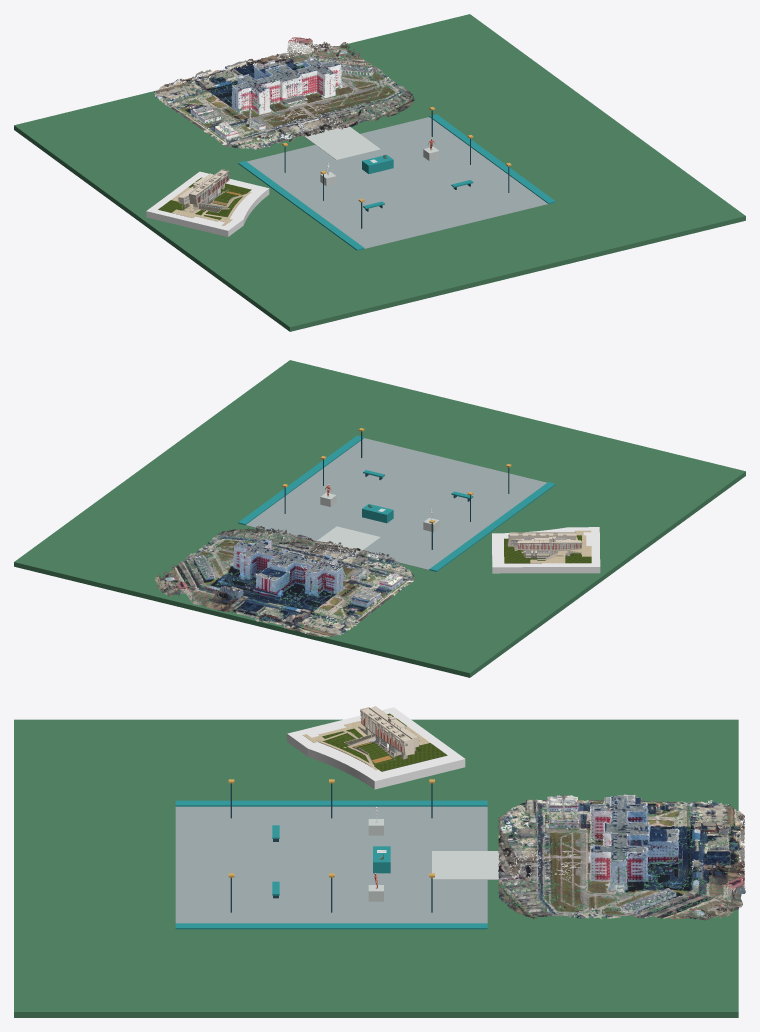
The model's file is ENV_PREP_Campus_v2.glb.
3 renders of one model, top to bottom at view 1: azimuth 30°, elevation 25°; view 2: azimuth 150°, elevation 25°; view 3: azimuth 270°, elevation 25°, orthographic. The views are drawn at different scales.
Parts seen in each view (by area): view 1: Terreno, Patio, SUP_hospital_02.001, SUP_facultad_de_enfermeria_unal_colombia.001, Caminho_Hospital, Faixa_Jardim, Faixa_Jardim.001; view 2: Terreno, Patio, SUP_hospital_02.001, SUP_facultad_de_enfermeria_unal_colombia.001, Caminho_Hospital, Faixa_Jardim, Faixa_Jardim.001; view 3: Terreno, Patio, SUP_hospital_02.001, SUP_facultad_de_enfermeria_unal_colombia.001, Caminho_Hospital, Faixa_Jardim.001, Faixa_Jardim.
Part boxes in pixels (box(x1,y1,x2,y2)): Terreno: box(14, 14, 745, 331); Patio: box(247, 117, 547, 248); SUP_hospital_02.001: box(154, 37, 414, 149); SUP_facultad_de_enfermeria_unal_colombia.001: box(146, 169, 269, 236); Caminho_Hospital: box(281, 107, 380, 159); Faixa_Jardim: box(238, 161, 364, 250); Faixa_Jardim.001: box(429, 114, 555, 203); Terreno: box(14, 360, 745, 677); Patio: box(246, 438, 546, 569); SUP_hospital_02.001: box(155, 526, 414, 636); SUP_facultad_de_enfermeria_unal_colombia.001: box(492, 527, 600, 573); Caminho_Hospital: box(284, 526, 380, 575); Faixa_Jardim: box(429, 482, 555, 571); Faixa_Jardim.001: box(238, 435, 364, 525); Terreno: box(14, 719, 738, 1017); Patio: box(175, 806, 487, 923); SUP_hospital_02.001: box(497, 794, 745, 920); SUP_facultad_de_enfermeria_unal_colombia.001: box(287, 706, 465, 789); Caminho_Hospital: box(432, 851, 587, 879); Faixa_Jardim.001: box(175, 923, 487, 929); Faixa_Jardim: box(175, 800, 487, 806).
Bounding box in the file's own units: 62 × 4.55 × 65.66.
Materials: 33 (21 with a texture image).
